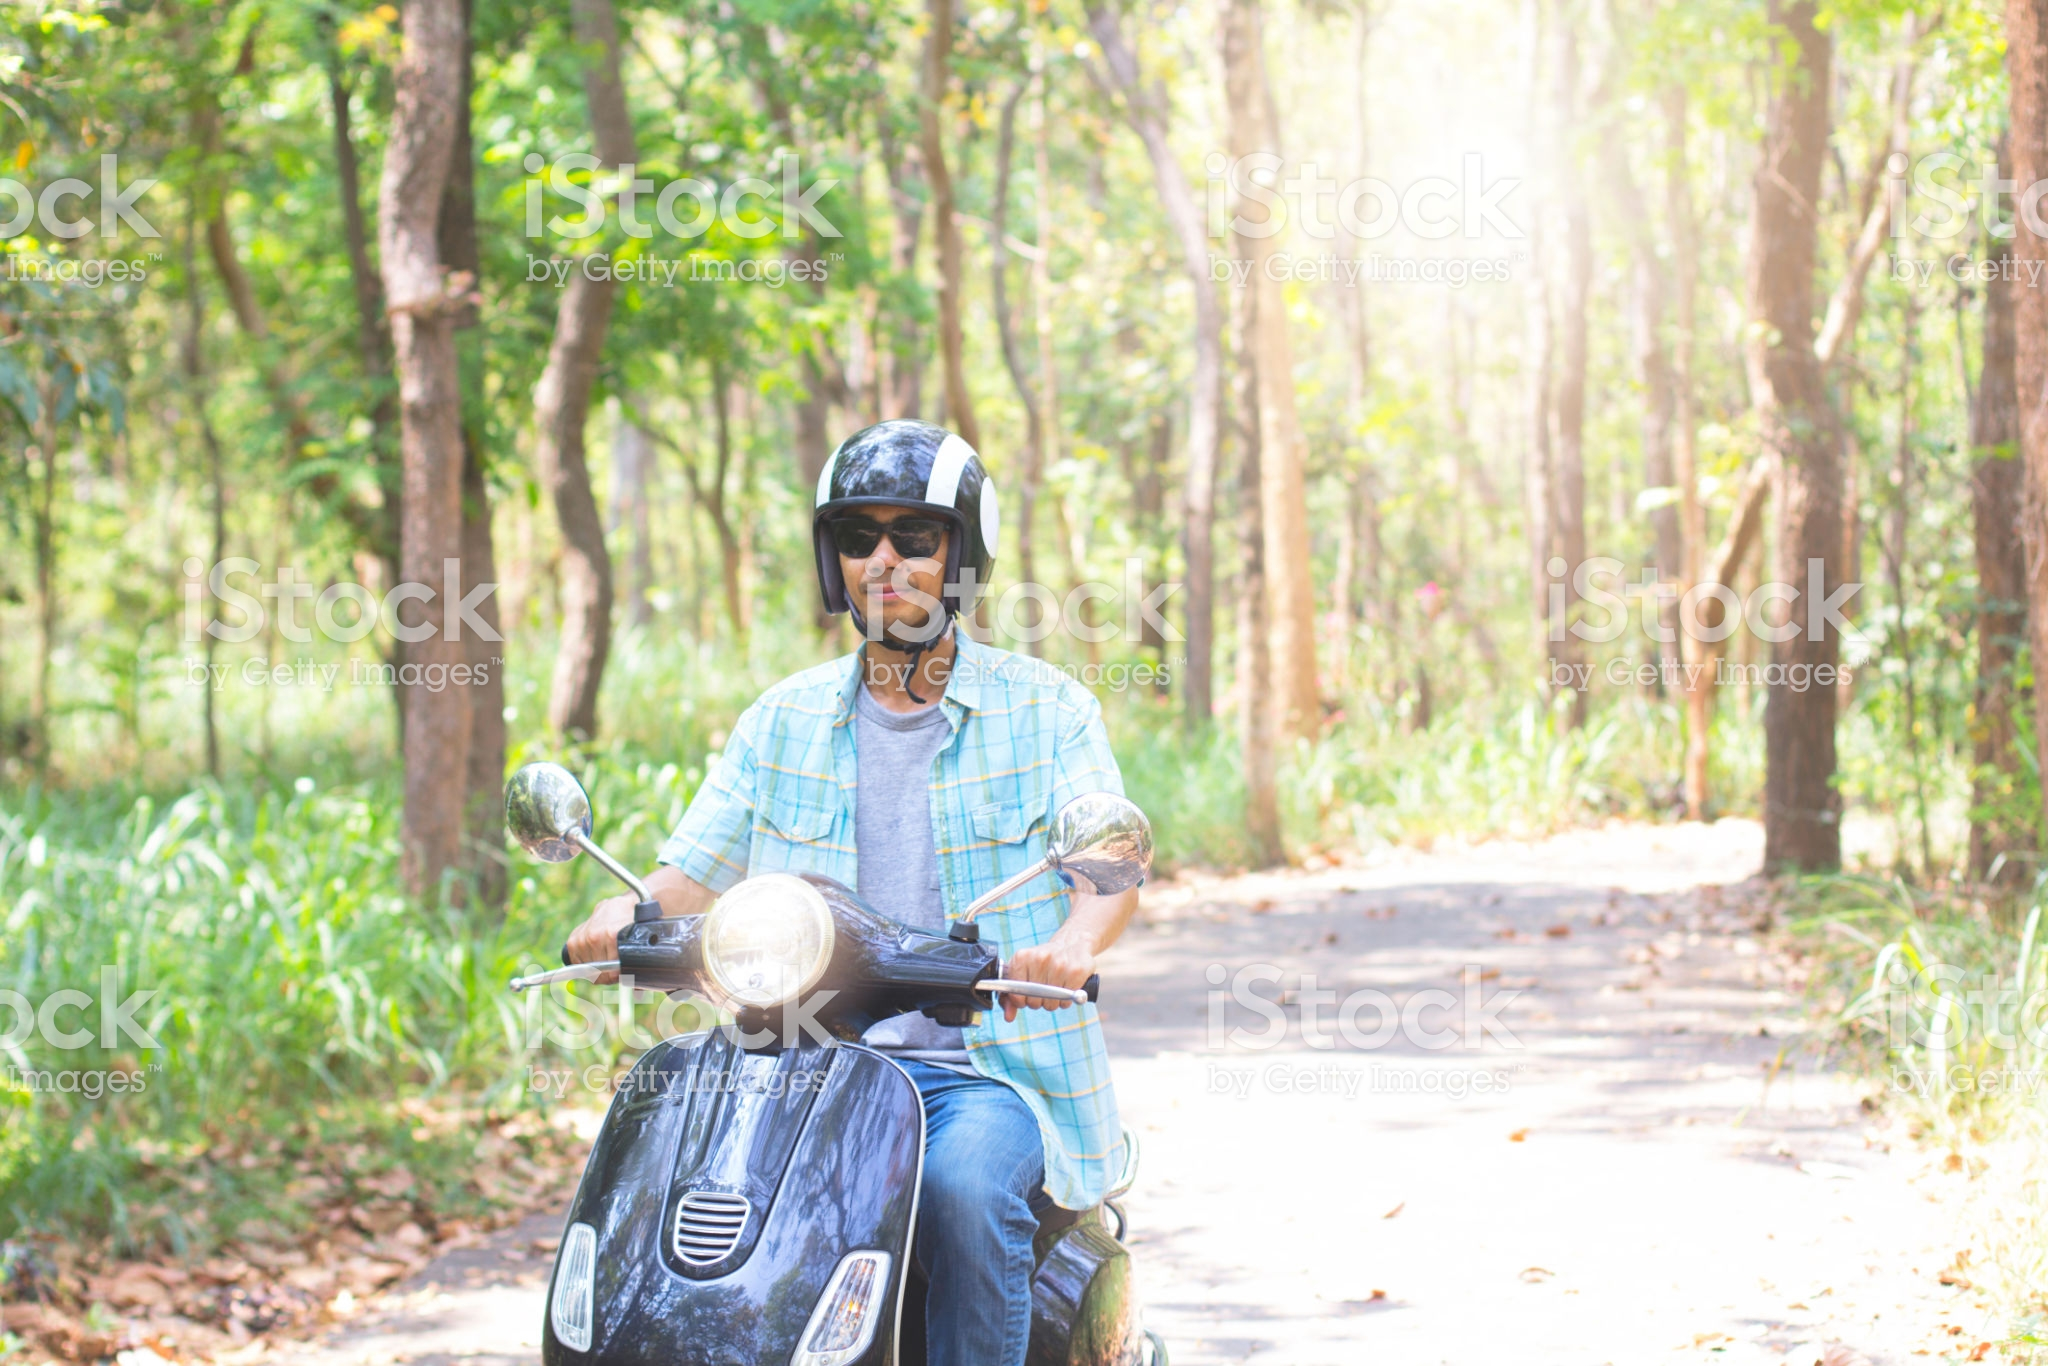helmet: (779, 412, 1006, 601)
